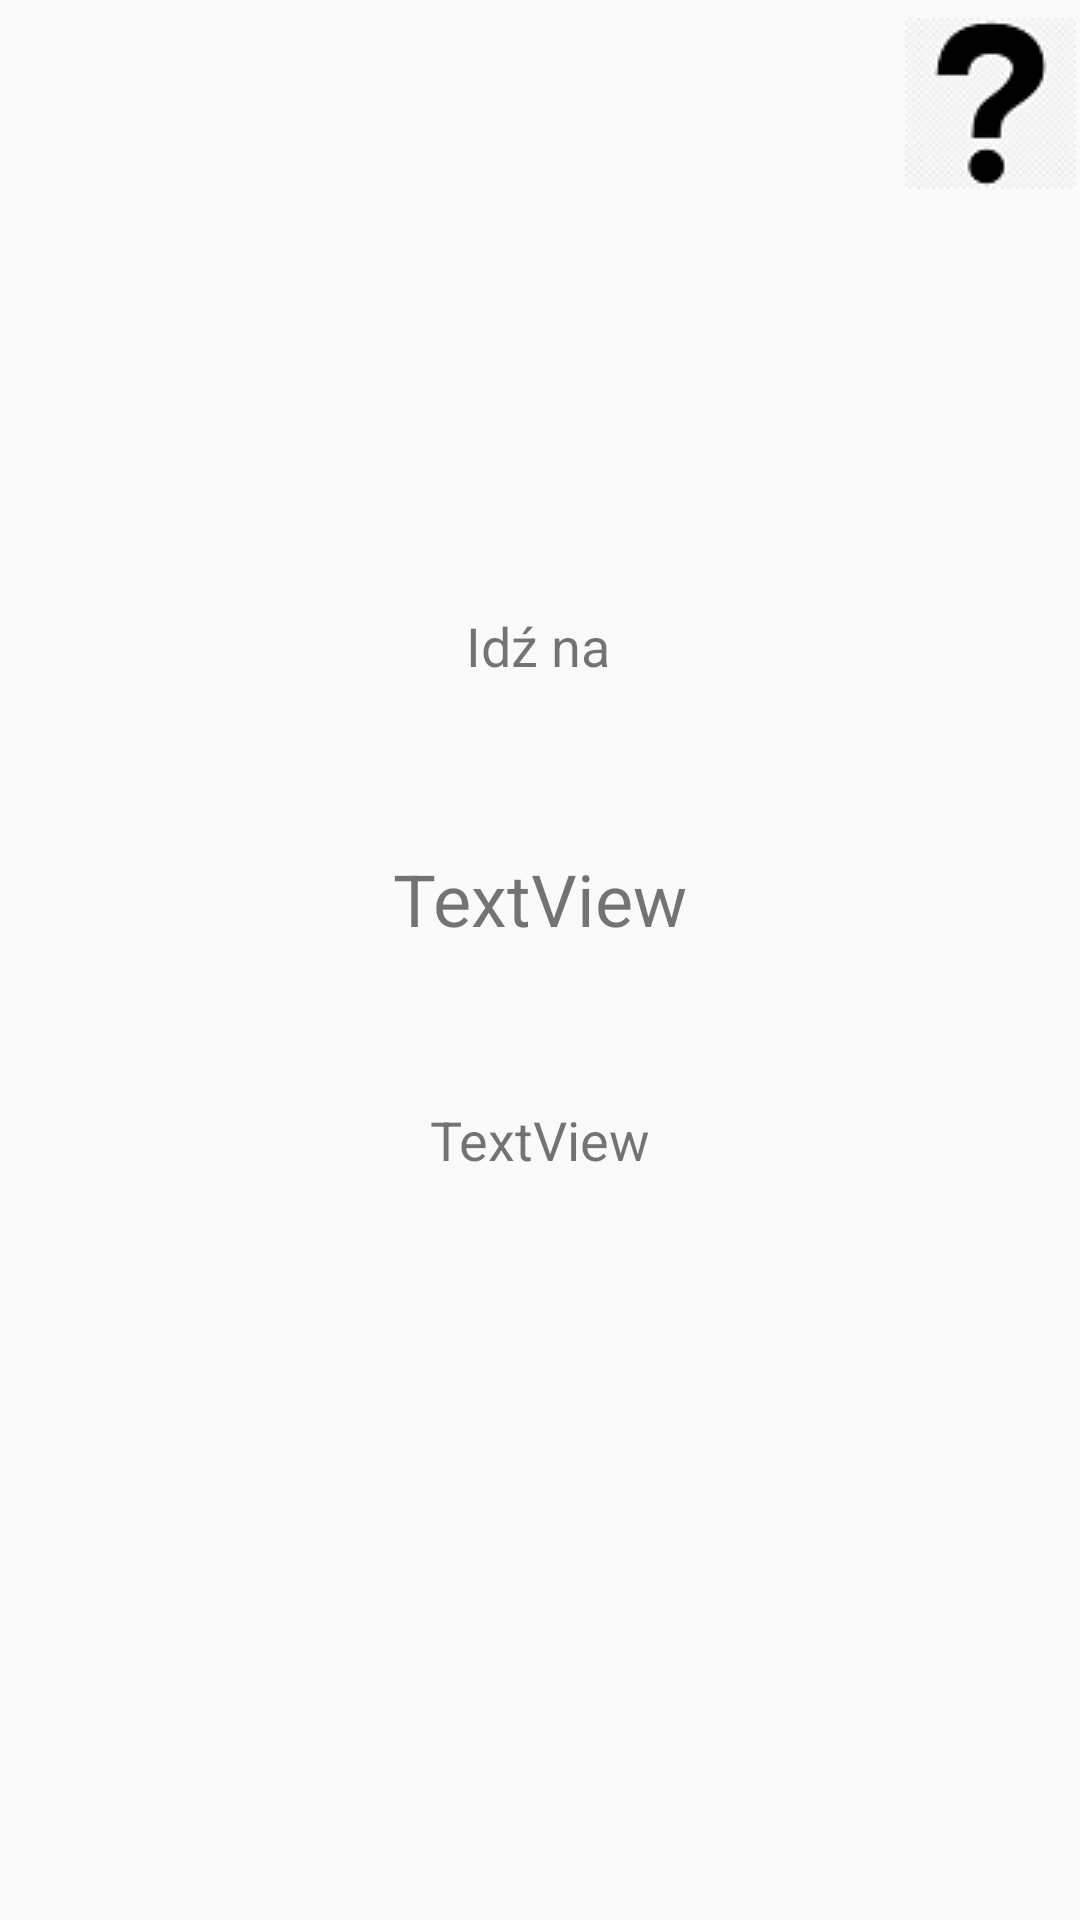

Icons on this 1080*1920 Android screen, each with the point to tap as (x=x, y=y):
question mark: (x=990, y=103)
